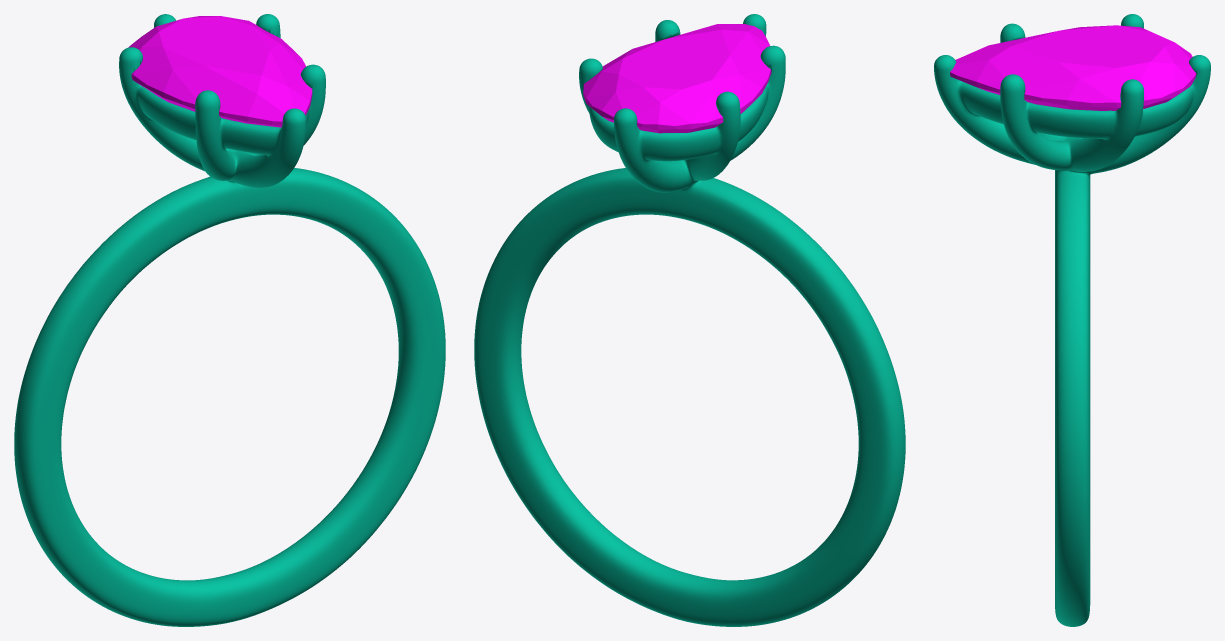
Rendered from BE17651_PE_200ct_RENDER.glb.
3 views of the same model, side by side, from view 1: azimuth 30°, elevation 25°; view 2: azimuth 150°, elevation 25°; view 3: azimuth 270°, elevation 25° (orthographic).
Parts seen in each view (by area): view 1: Metal 01, CS_Diamond_Pear; view 2: Metal 01, CS_Diamond_Pear; view 3: Metal 01, CS_Diamond_Pear.
Part boxes in pixels (x1,y1,x2,y2): Metal 01: [14, 14, 445, 626]; CS_Diamond_Pear: [128, 16, 312, 127]; Metal 01: [474, 14, 905, 626]; CS_Diamond_Pear: [583, 24, 771, 133]; Metal 01: [934, 14, 1210, 626]; CS_Diamond_Pear: [950, 25, 1196, 110].
Size of the model in its own units: 20.47 by 26.09 by 11.74.
